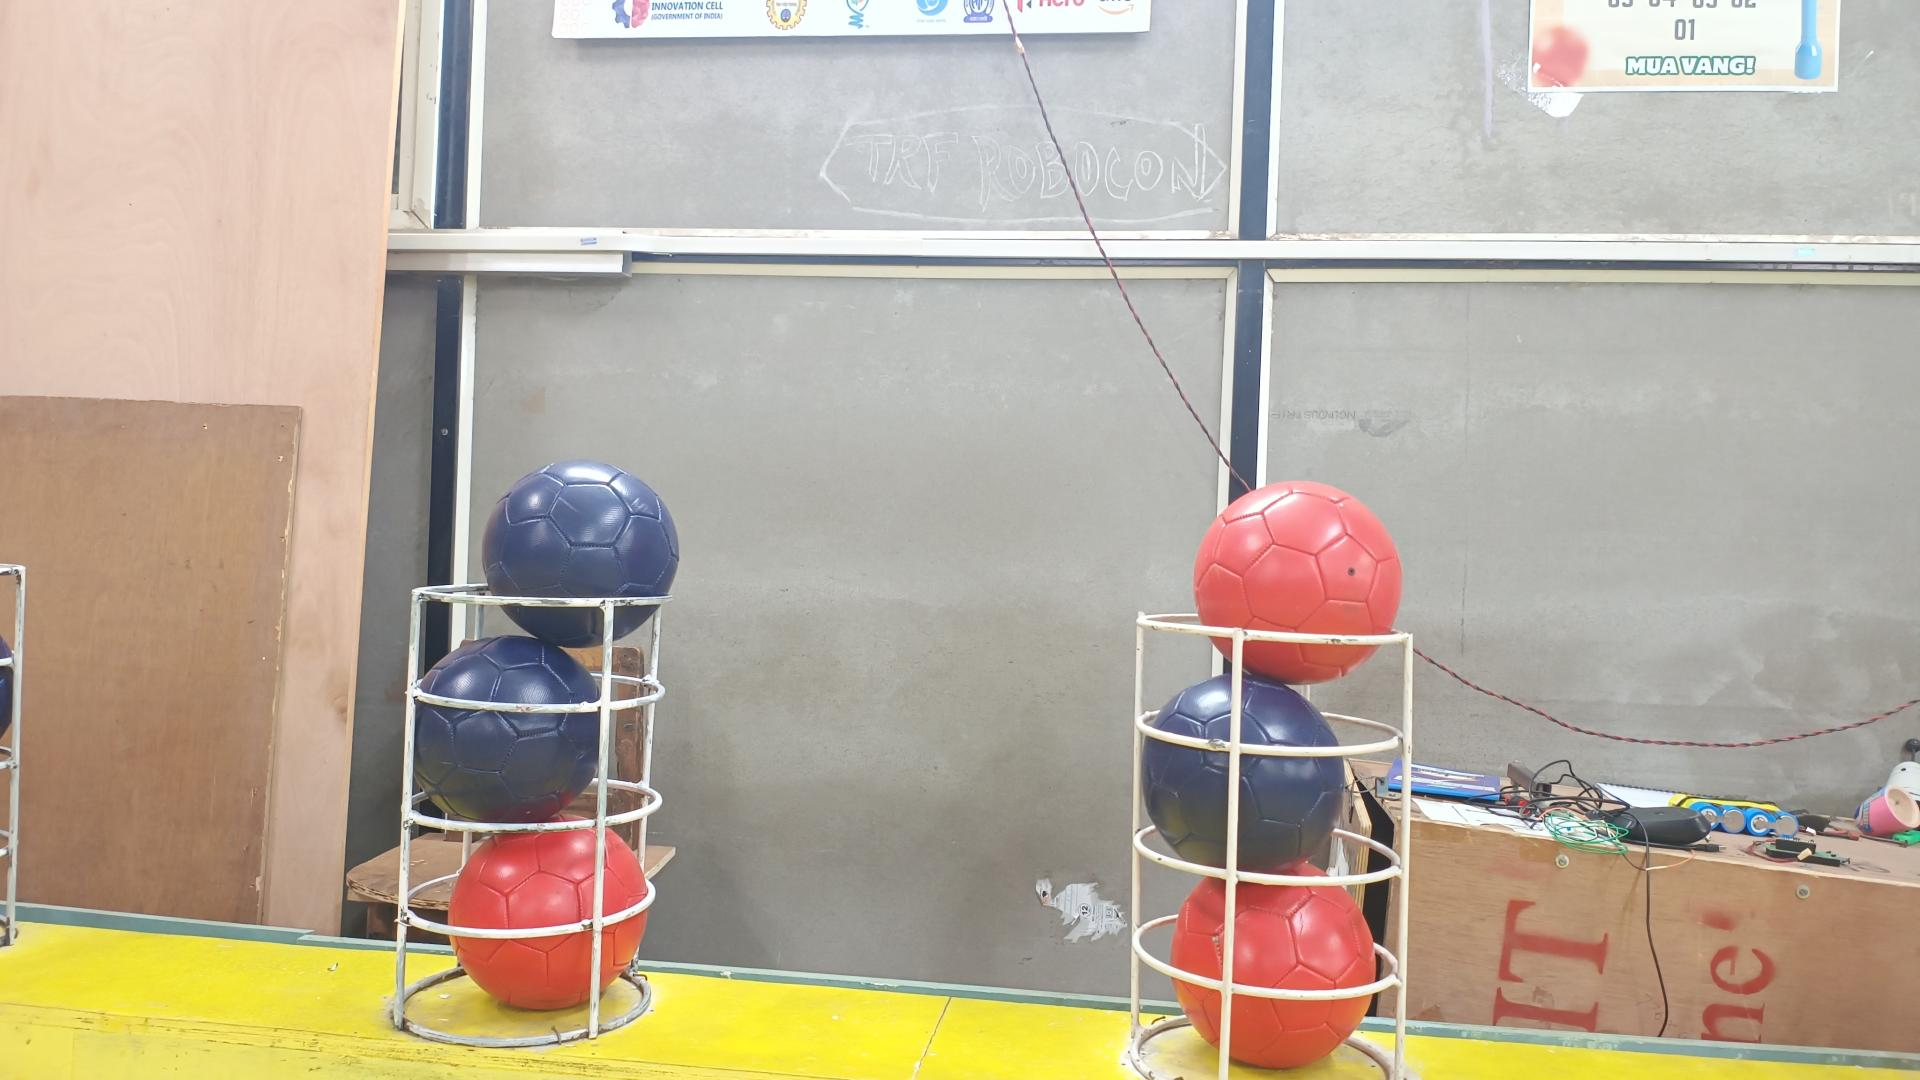dhoka: (1139, 675, 1350, 874), (480, 462, 679, 649), (413, 634, 600, 822)
laale: (1192, 480, 1403, 683), (1170, 877, 1383, 1068), (450, 822, 649, 1009)
